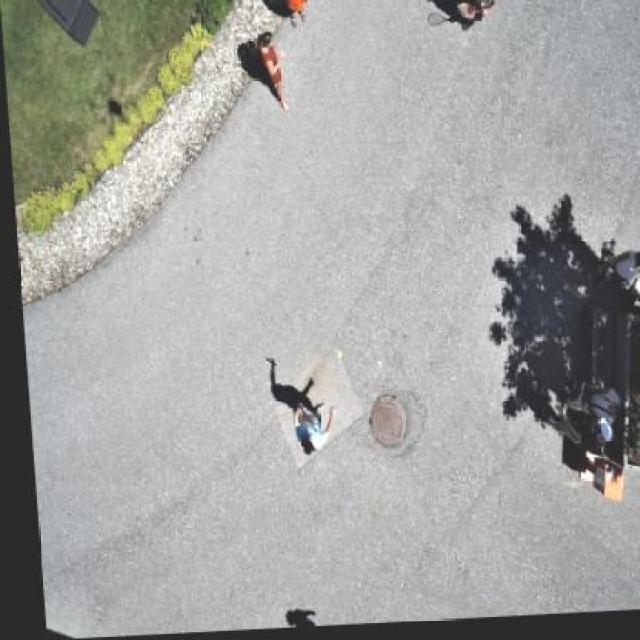Person: (274, 394, 332, 464), (252, 26, 294, 117), (583, 249, 639, 309), (555, 383, 620, 434), (562, 420, 609, 466), (455, 0, 510, 31), (274, 0, 320, 26)
